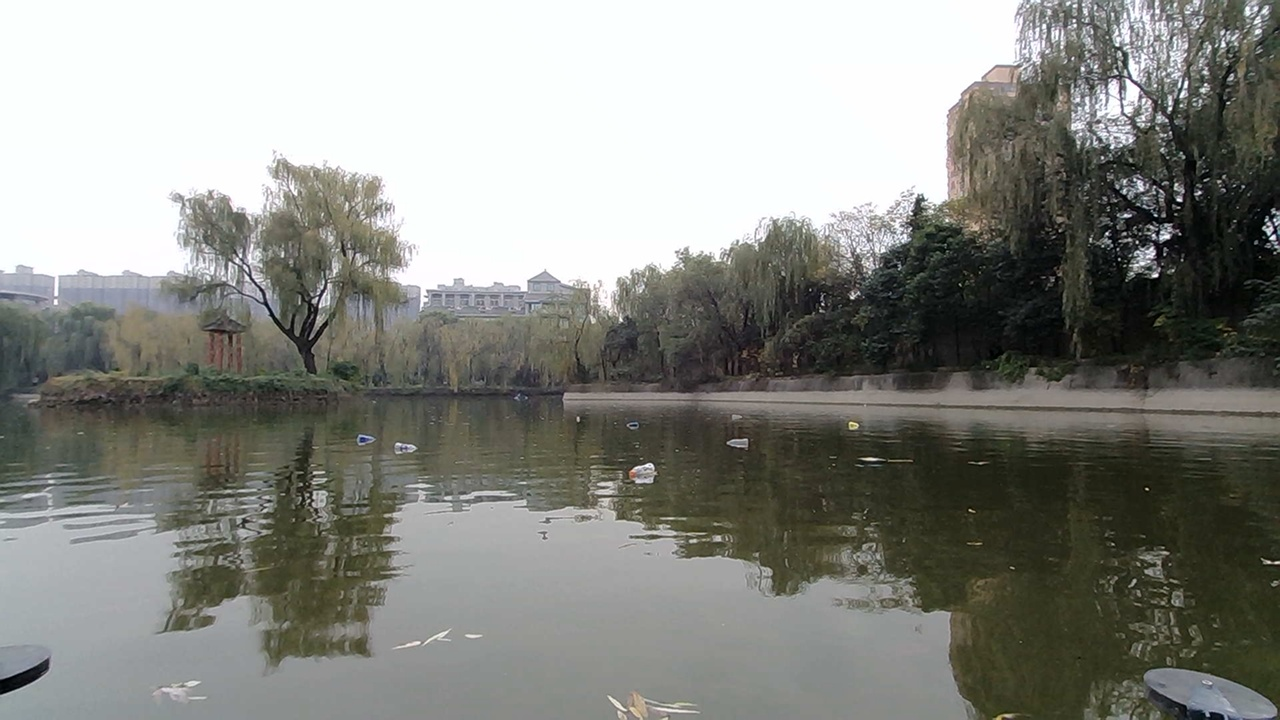bottle: (716, 417, 761, 457), (394, 427, 430, 460), (627, 461, 661, 487), (622, 406, 652, 435), (568, 404, 600, 430), (355, 429, 379, 456), (840, 415, 864, 441)
